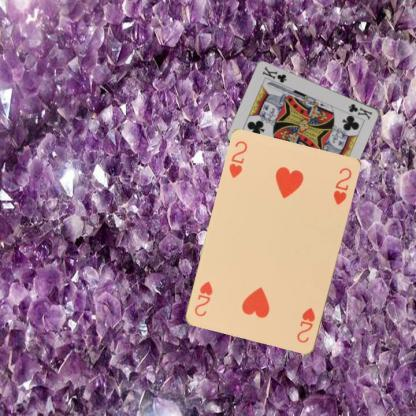2h: (226, 138, 249, 180), (294, 304, 317, 344)
Kc: (346, 101, 373, 121)
